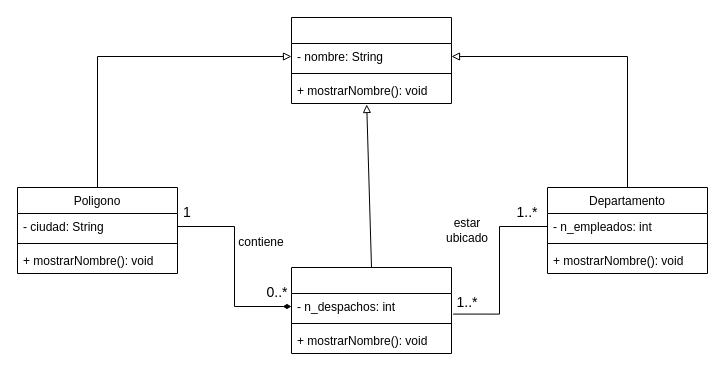
The diagram is 725 pixels wide and 374 high, and some of its shapes have lost their labels. Here are the shapes that lost their labels. From the top down, the box of each, then its label:
(290, 16, 452, 104): Distribuicion
(290, 266, 452, 354): Edificios
